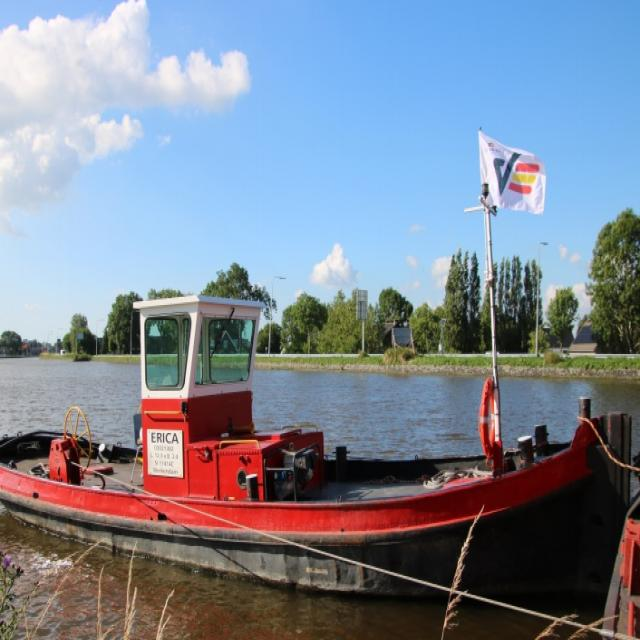tugboat: (1, 262, 638, 640)
